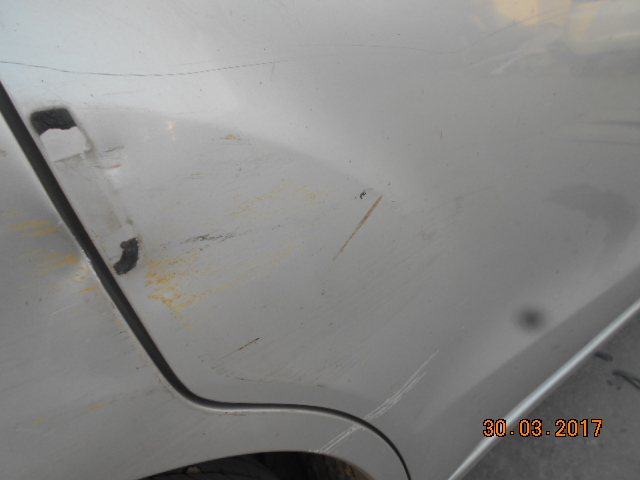Scratch_or_spot: (27, 99, 82, 137), (114, 231, 148, 275)
